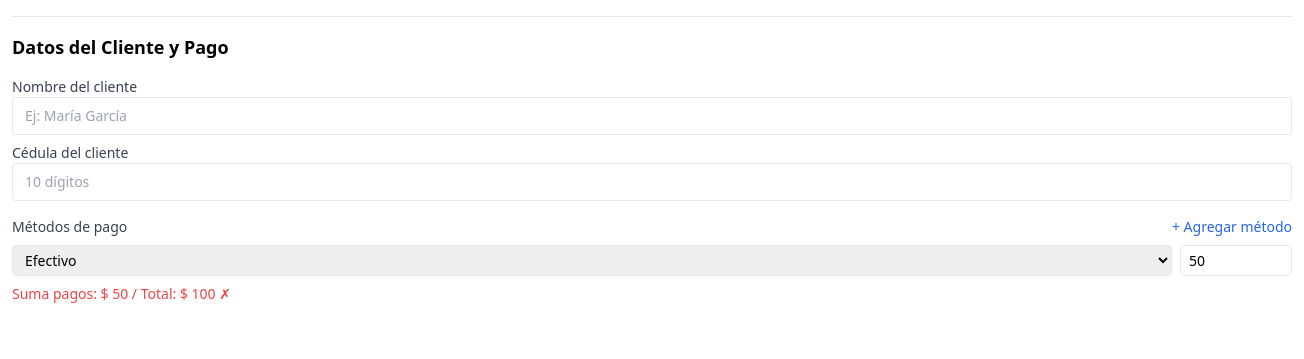
Scenario: PagoForm › permite agregar múltiples métodos de pago
Check: the number of dropdowns is 1, box top-left (12, 245), bottom-right (1172, 276)
Click the button "+ Agregar método" at (1232, 227), box top-left (1172, 217), bottom-right (1292, 237)
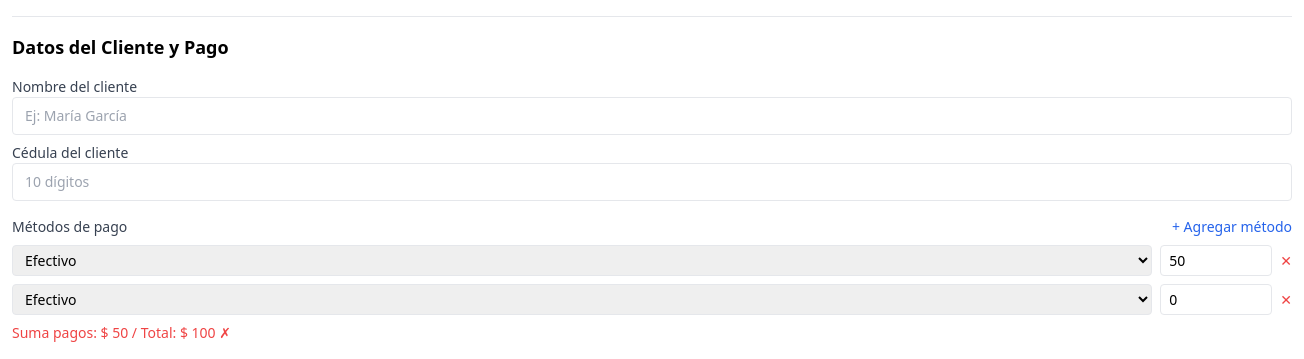
Check: the number of dropdowns is 2, box top-left (12, 245), bottom-right (1152, 276); top-left (12, 284), bottom-right (1152, 315)
